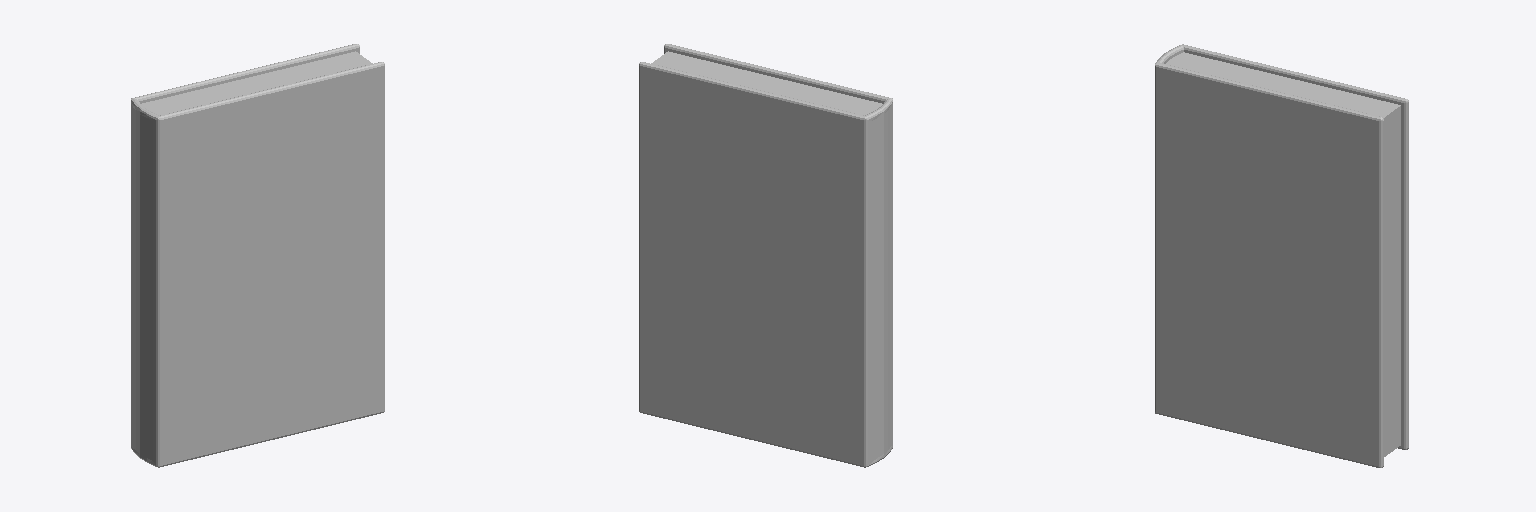
Rendered from beowulf.obj.
3 renders of one model, left to right at view 1: azimuth 30°, elevation 25°; view 2: azimuth 150°, elevation 25°; view 3: azimuth 330°, elevation 25°, orthographic.
Parts seen in each view (by area): view 1: book.beowulf_Cube.001; view 2: book.beowulf_Cube.001; view 3: book.beowulf_Cube.001.
Boxes of the visible parts, x1=… form: book.beowulf_Cube.001: x1=131, y1=44, x2=384, y2=467; book.beowulf_Cube.001: x1=639, y1=44, x2=892, y2=467; book.beowulf_Cube.001: x1=1155, y1=44, x2=1408, y2=467.
Size of the model in its own units: 1.23 by 1.77 by 0.26.